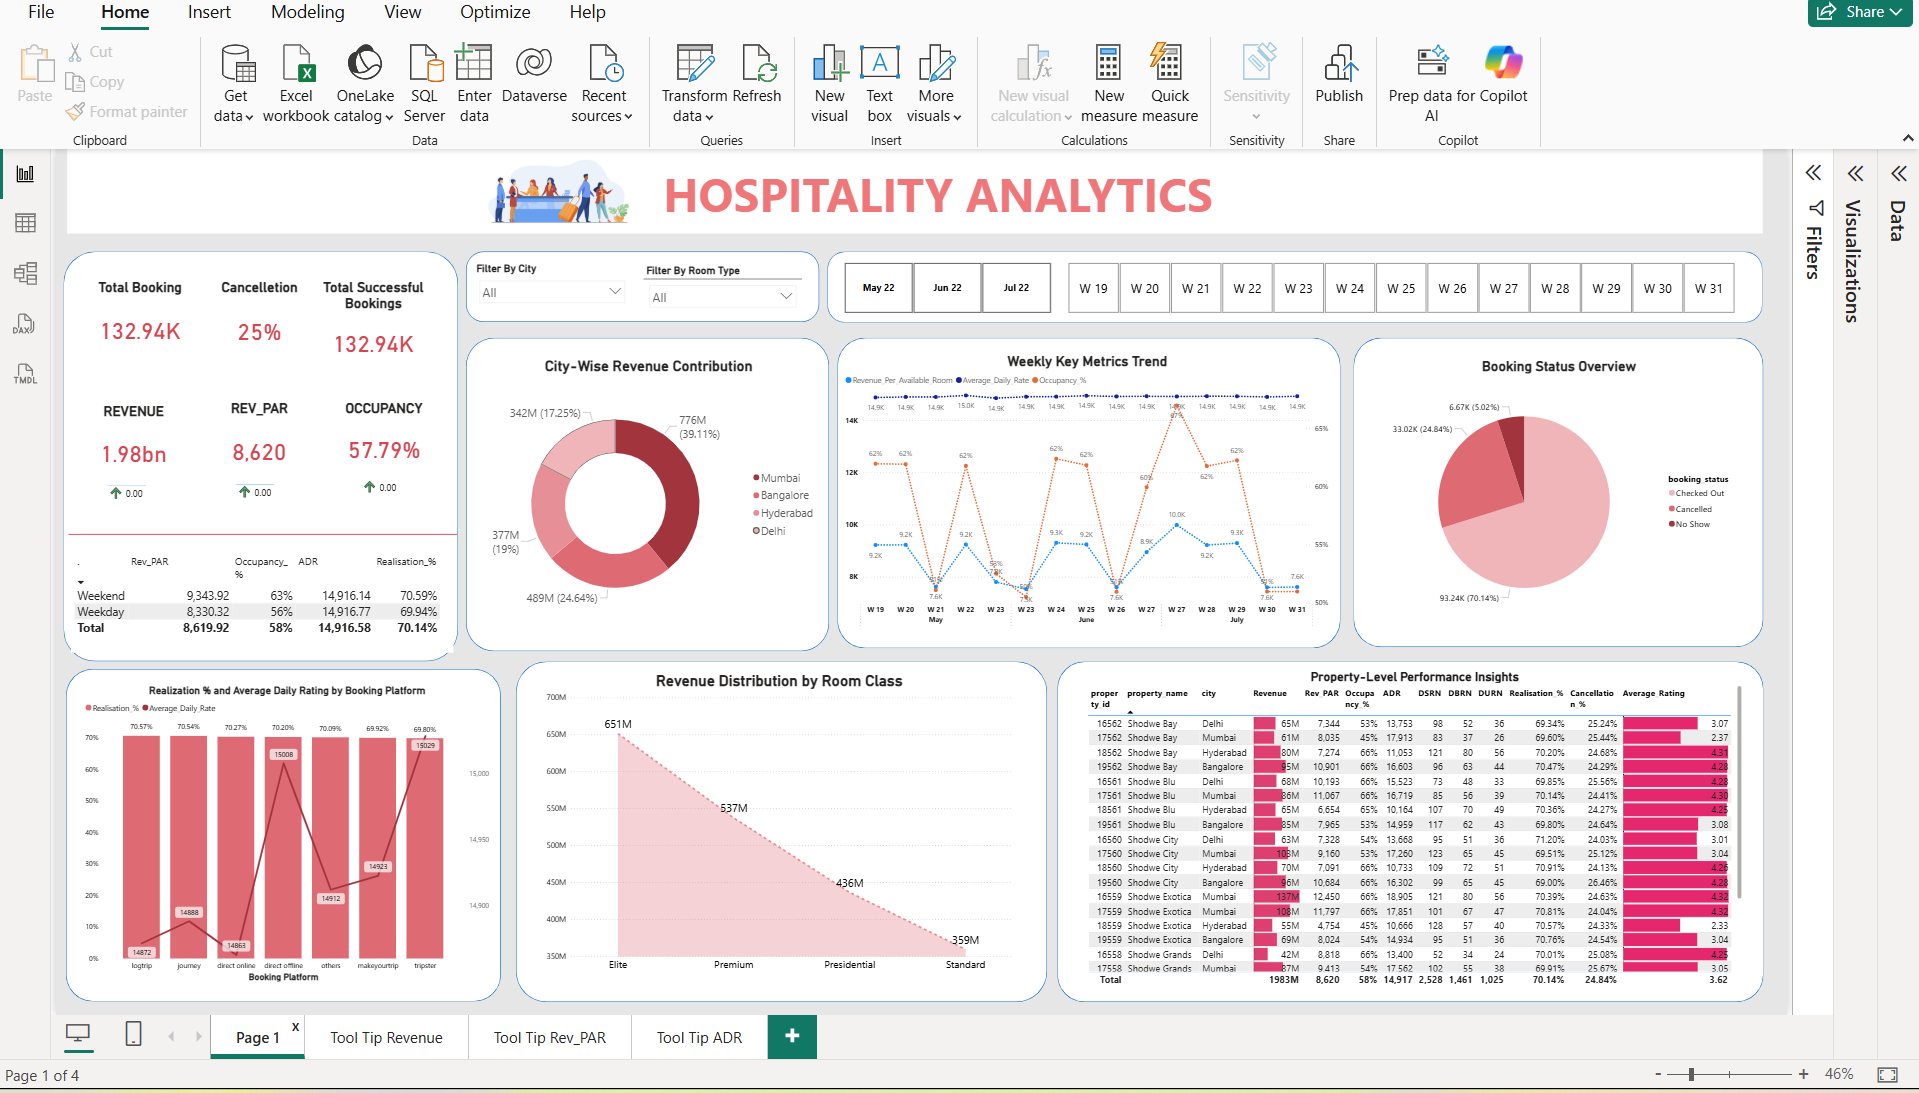

What the dashboard file says about the page in this screenshot:
{"tool":"tableau","page":{"name":"Dashboard 1","canvas":[1000,1000],"units":"permille","ordinal":0},"visuals":[{"type":"text","box":[4.9,8.8,922,81.8]},{"type":"filter","title":"Revenue by State and Hotel","param":"[federated.0isxcyk0ii92bp143nlhl18z355o].[none:city:nk]","box":[926.9,8.8,68.2,166.8]},{"type":"worksheet","title":"KPI","mark":"Automatic","box":[3.7,92.8,921.4,122.7]},{"type":"filter","title":"Class-wise revenue","param":"[federated.0isxcyk0ii92bp143nlhl18z355o].[none:room_category:nk]","box":[926.9,175.7,68.2,166.8]},{"type":"worksheet","title":"Utilized Capacity","mark":"Automatic","box":[5.5,215.5,270.6,370.2]},{"type":"worksheet","title":"Revenue & bookings","mark":"Pie","cols":["day_type"],"box":[276.7,215.5,245,371.3]},{"type":"worksheet","title":"Class-wise revenue","mark":"Pie","box":[522.2,215.5,204.1,372.4]},{"type":"worksheet","title":"checked out/cencel/No show","mark":"Automatic","box":[725.8,216.6,198.7,370.2]},{"type":"filter","title":"checked out/cencel/No show","param":"[federated.0isxcyk0ii92bp143nlhl18z355o].[none:booking_status:nk]","box":[926.9,342.5,68.2,141.4]},{"type":"legend","title":"Class-wise revenue","param":"[federated.0isxcyk0ii92bp143nlhl18z355o].[none:room_category:nk]","box":[524.7,352.5,46.9,122.7]},{"type":"filter","title":"Weekly trend key metrics","param":"[federated.0isxcyk0ii92bp143nlhl18z355o].[none:week no:nk]","box":[926.9,484,68.2,421]},{"type":"legend","title":"Revenue & bookings","param":"[federated.0isxcyk0ii92bp143nlhl18z355o].[none:day_type:nk]","box":[286.1,527.1,64.8,46.6]},{"type":"worksheet","title":"Weekly trend key metrics","mark":"Automatic","rows":["Calculation_673288190248730626","Calculation_673288190243160064"],"cols":["week no"],"box":[632.1,590,293.3,399.1]},{"type":"worksheet","title":"Trend Analysis","mark":"Automatic","rows":["revenue_generated","Calculation_673288190243160064"],"cols":["week no"],"box":[4.9,590.1,307.7,400]},{"type":"worksheet","title":"Revenue by State and Hotel","mark":"Automatic","rows":["property_name"],"cols":["revenue_generated"],"box":[313.2,590.1,318.7,400]},{"type":"legend","title":"Weekly trend key metrics","param":"[federated.0isxcyk0ii92bp143nlhl18z355o].[:Measure Names]","box":[926.9,905,68.2,79.6]}]}

Visuals, with their boxes on the dashboard's canvas, which has no fixed pixel size, in thousandths of its width and height (x1, y1, x2, y2). These are canvas units, not pixel positions in the 1919x1093 screenshot, which may show the page scaled, cropped or inside an application window:
text: [5,9,927,91]
"Revenue by State and Hotel" filter: [927,9,995,176]
"KPI" worksheet: [4,93,925,216]
"Class-wise revenue" filter: [927,176,995,342]
"Utilized Capacity" worksheet: [6,216,276,586]
"Revenue & bookings" worksheet (Pie marks): [277,216,522,587]
"Class-wise revenue" worksheet (Pie marks): [522,216,726,588]
"checked out/cencel/No show" worksheet: [726,217,924,587]
"checked out/cencel/No show" filter: [927,342,995,484]
"Class-wise revenue" legend: [525,352,572,475]
"Weekly trend key metrics" filter: [927,484,995,905]
"Revenue & bookings" legend: [286,527,351,574]
"Weekly trend key metrics" worksheet: [632,590,925,989]
"Trend Analysis" worksheet: [5,590,313,990]
"Revenue by State and Hotel" worksheet: [313,590,632,990]
"Weekly trend key metrics" legend: [927,905,995,985]
